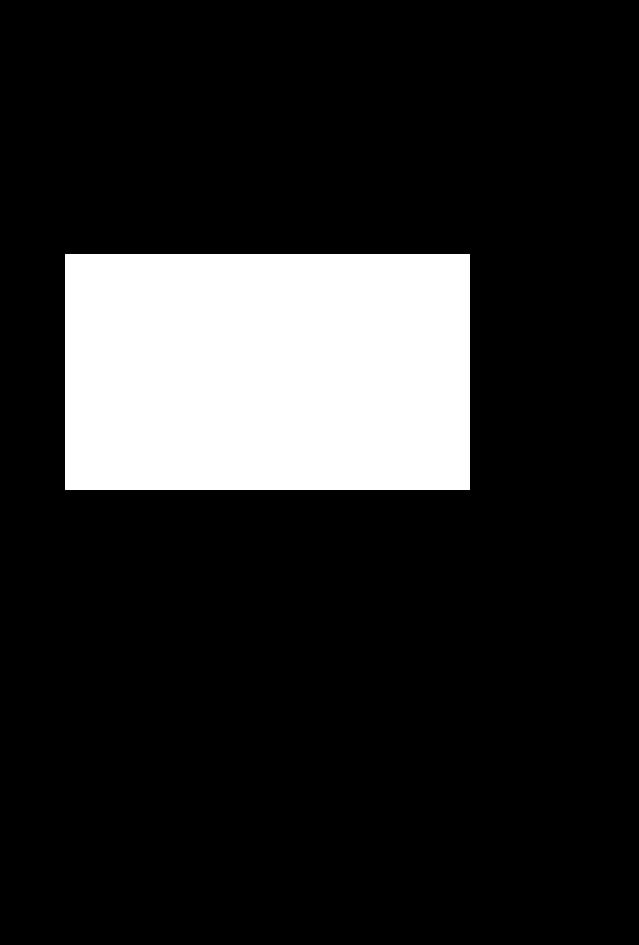table: (65, 254, 469, 489)
